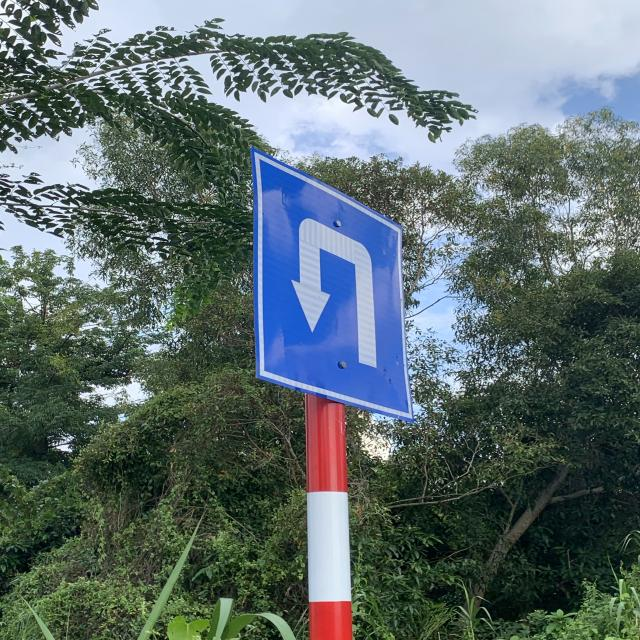Den_Giao_Thong: (255, 152, 401, 410)
